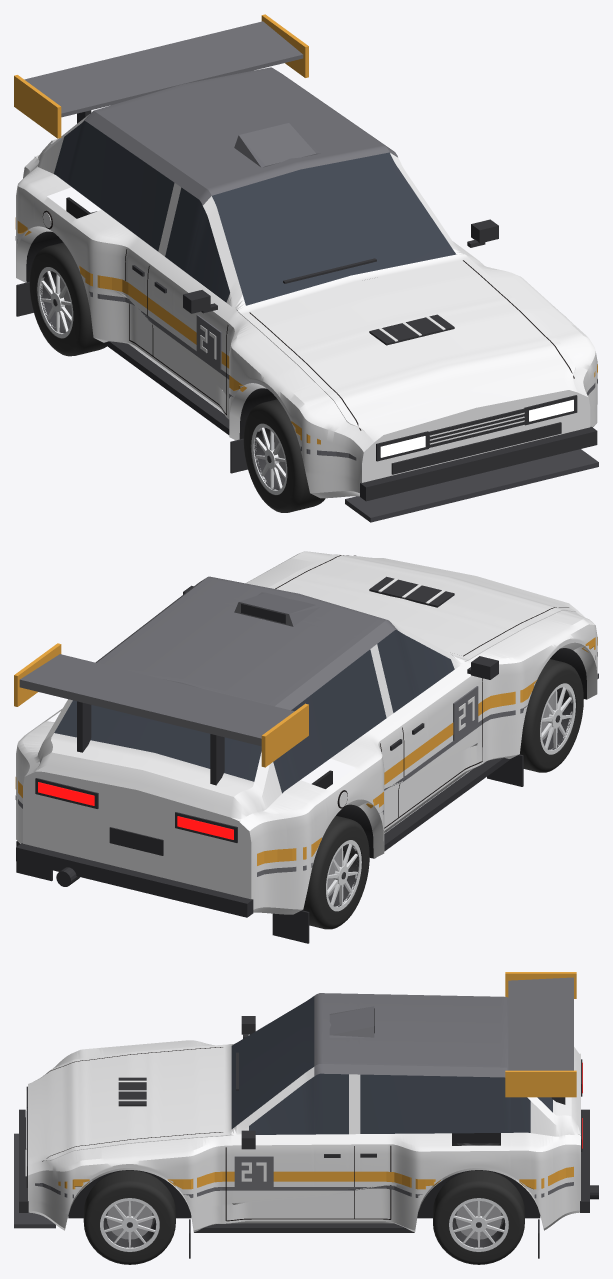
File: modern-hatch-wrc.glb
3 renders of one model, top to bottom at view 1: azimuth 30°, elevation 25°; view 2: azimuth 150°, elevation 25°; view 3: azimuth 270°, elevation 25°, orthographic. The views are drawn at different scales.
Parts seen in each view (by area): view 1: Body, Wheel_FR, Wheel_RR; view 2: Body, Wheel_RR, Wheel_FR; view 3: Body, Wheel_FL, Wheel_RL.
Part boxes in pixels (box(x1,y1,x2,y2)): Body: box(14, 14, 598, 522); Wheel_FR: box(243, 399, 325, 512); Wheel_RR: box(29, 242, 106, 356); Body: box(14, 551, 598, 943); Wheel_RR: box(302, 815, 369, 929); Wheel_FR: box(520, 659, 583, 772); Body: box(14, 972, 598, 1258); Wheel_FL: box(83, 1170, 175, 1264); Wheel_RL: box(433, 1170, 524, 1264).
Size of the model in its own units: 2.07 by 1.53 by 4.19.
